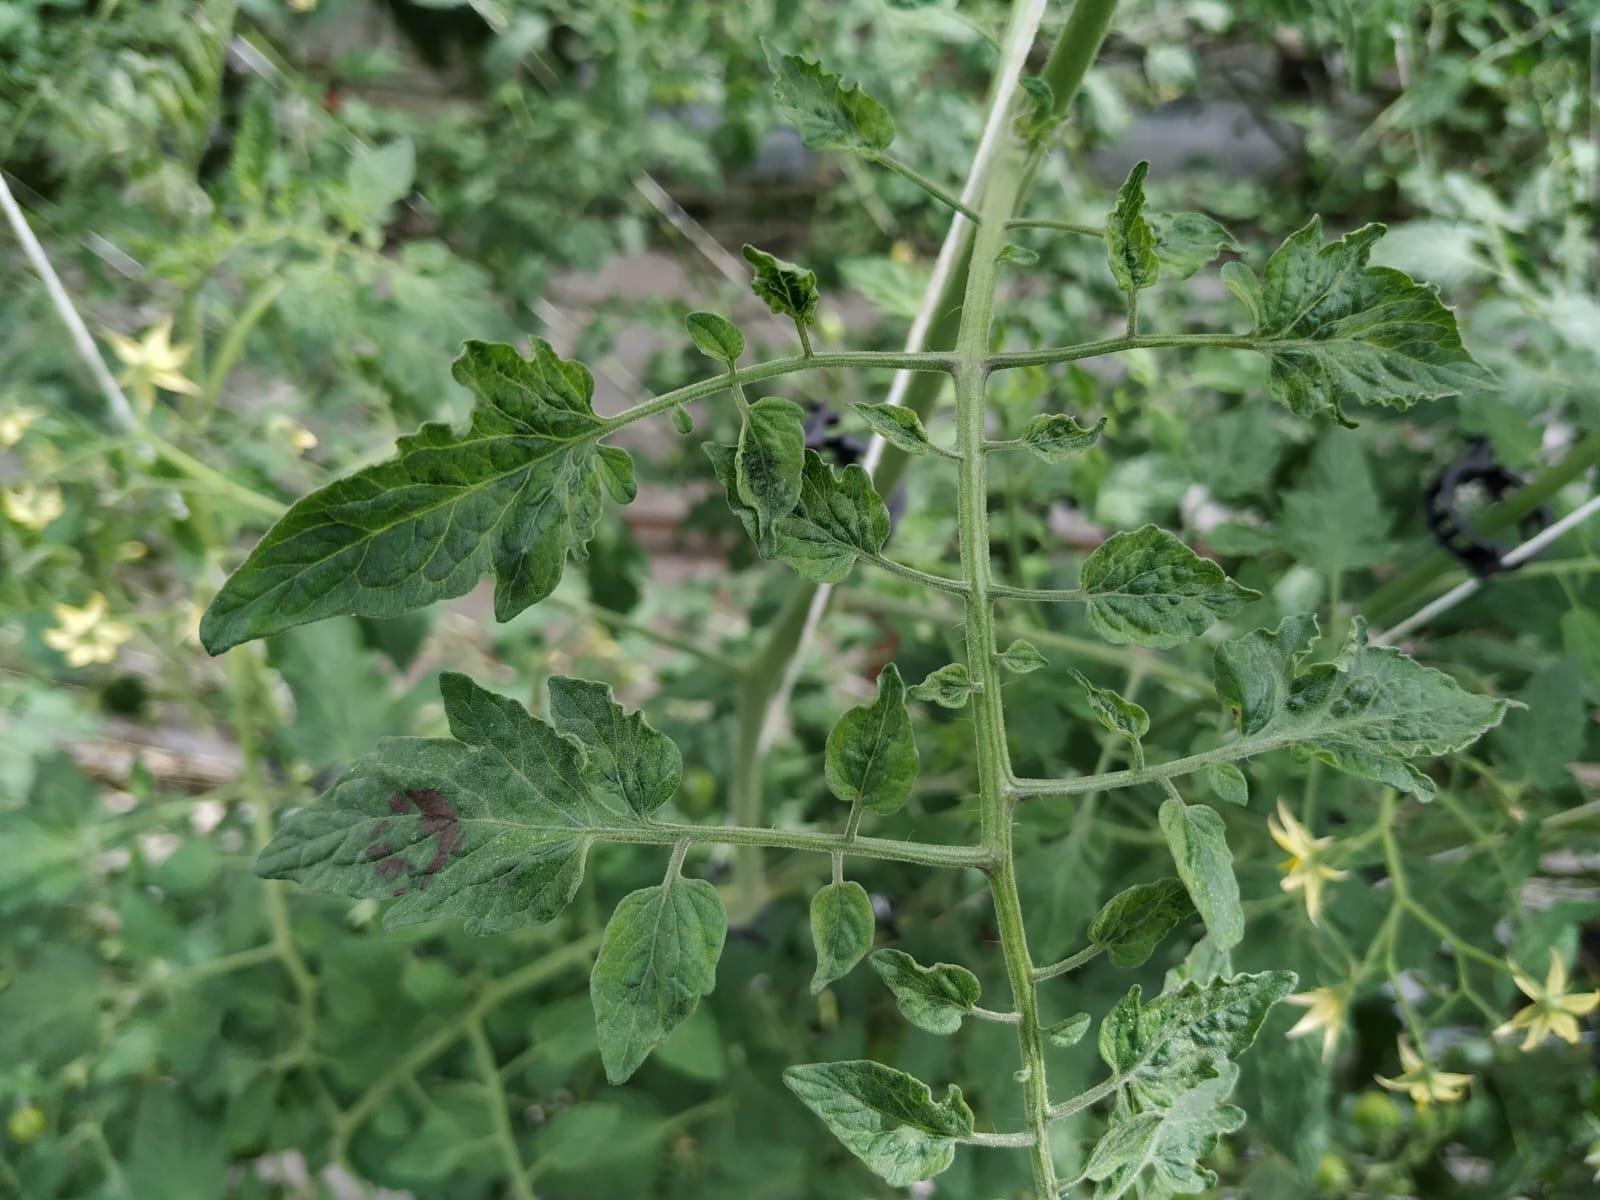Hoja: (199, 337, 626, 650), (591, 841, 728, 1084), (825, 663, 918, 816)
Hoja rugoso: (256, 672, 622, 934), (1225, 216, 1497, 422), (1275, 619, 1513, 803), (785, 1059, 971, 1187), (1081, 524, 1260, 647), (734, 397, 806, 556)
Pedunculo: (955, 151, 1048, 1137)
